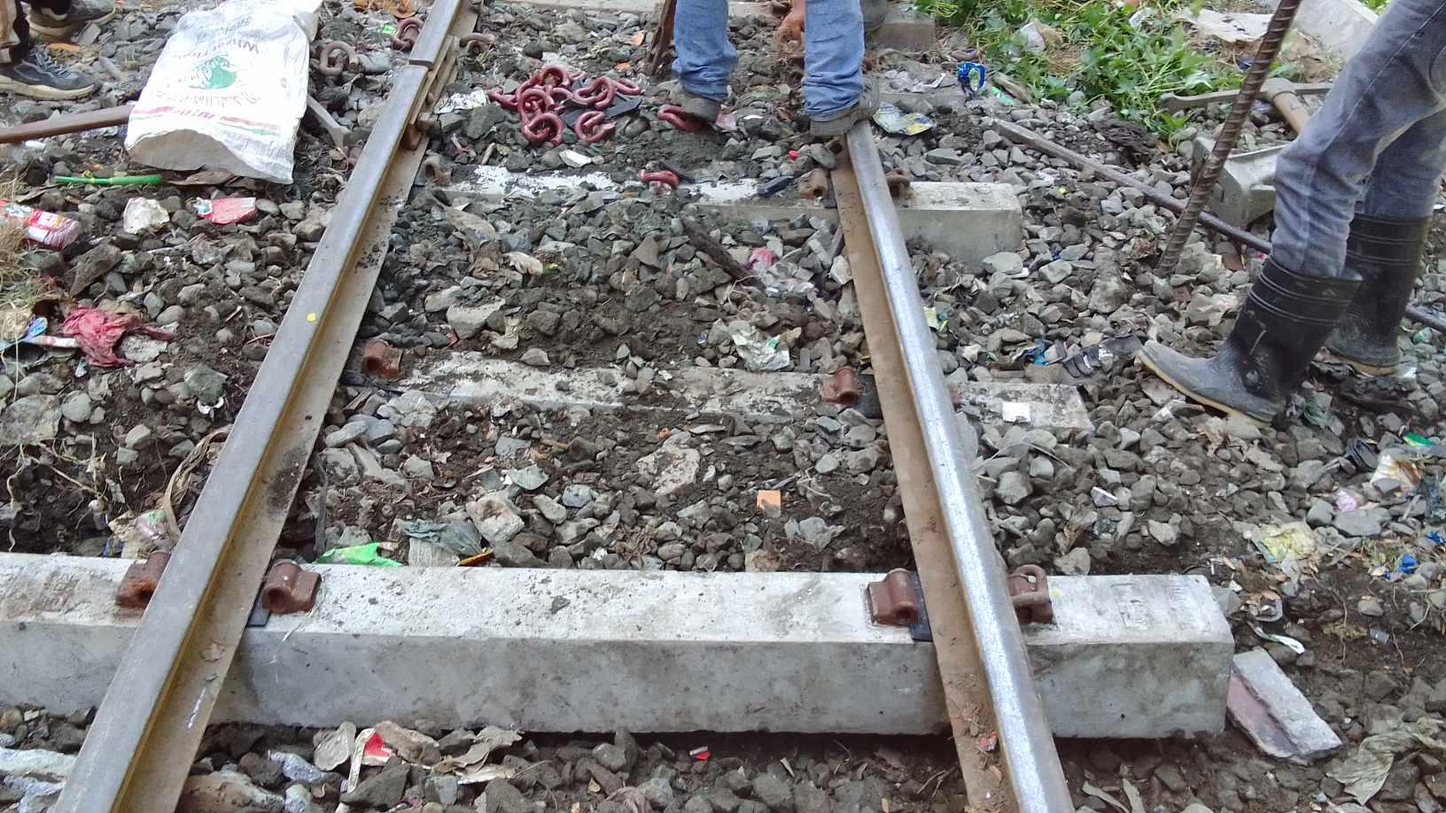railway-gap: (383, 33, 449, 95)
